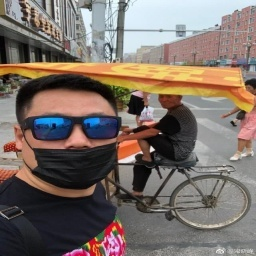incorrectlyWear: (13, 99, 123, 189)
noWear: (156, 94, 187, 110)
